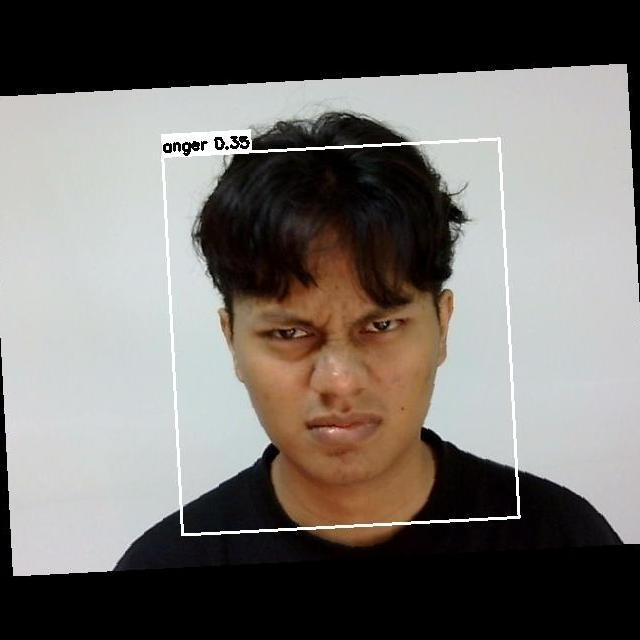Angry: (239, 286, 446, 475)
